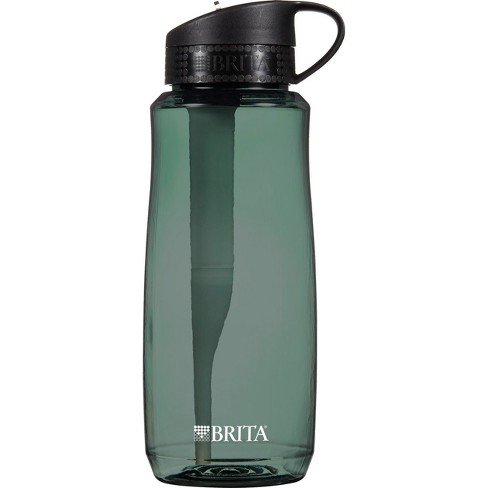Rec_Plastic: (137, 1, 327, 484)
